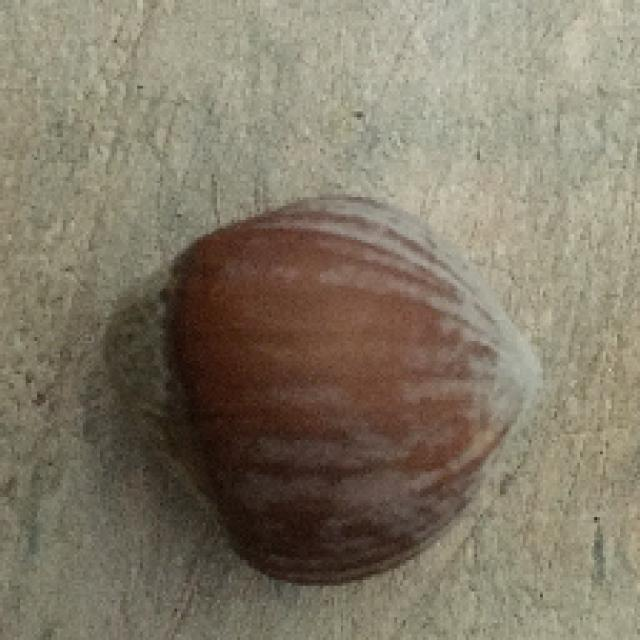qualityHazelnut: (106, 198, 540, 580)
